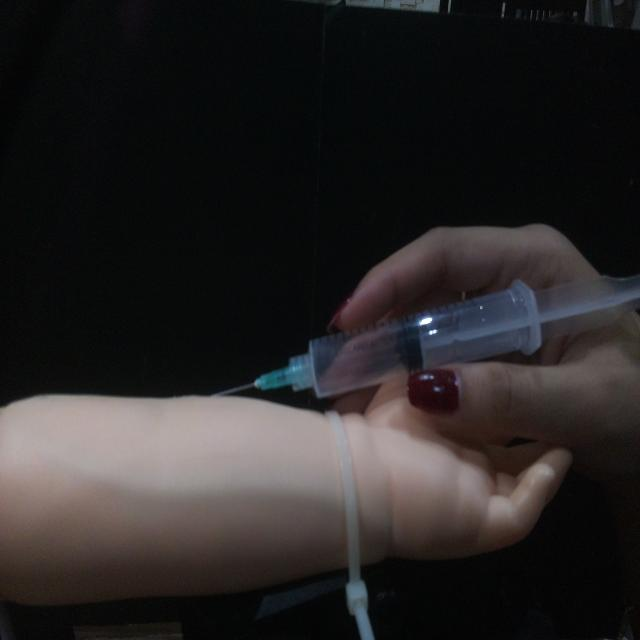16deg: (212, 268, 638, 403)
